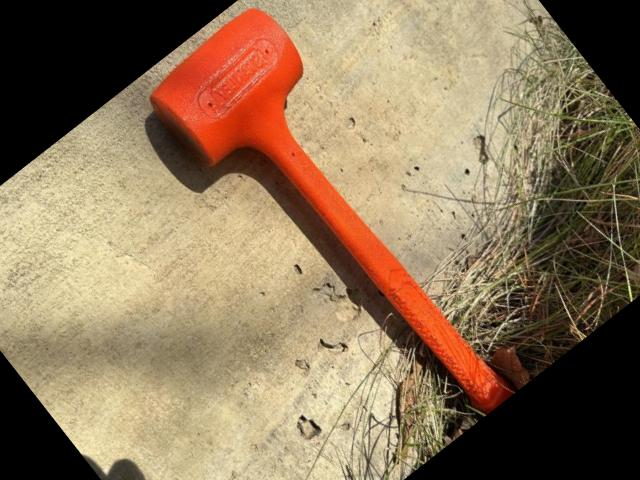hammer: (134, 0, 547, 464)
